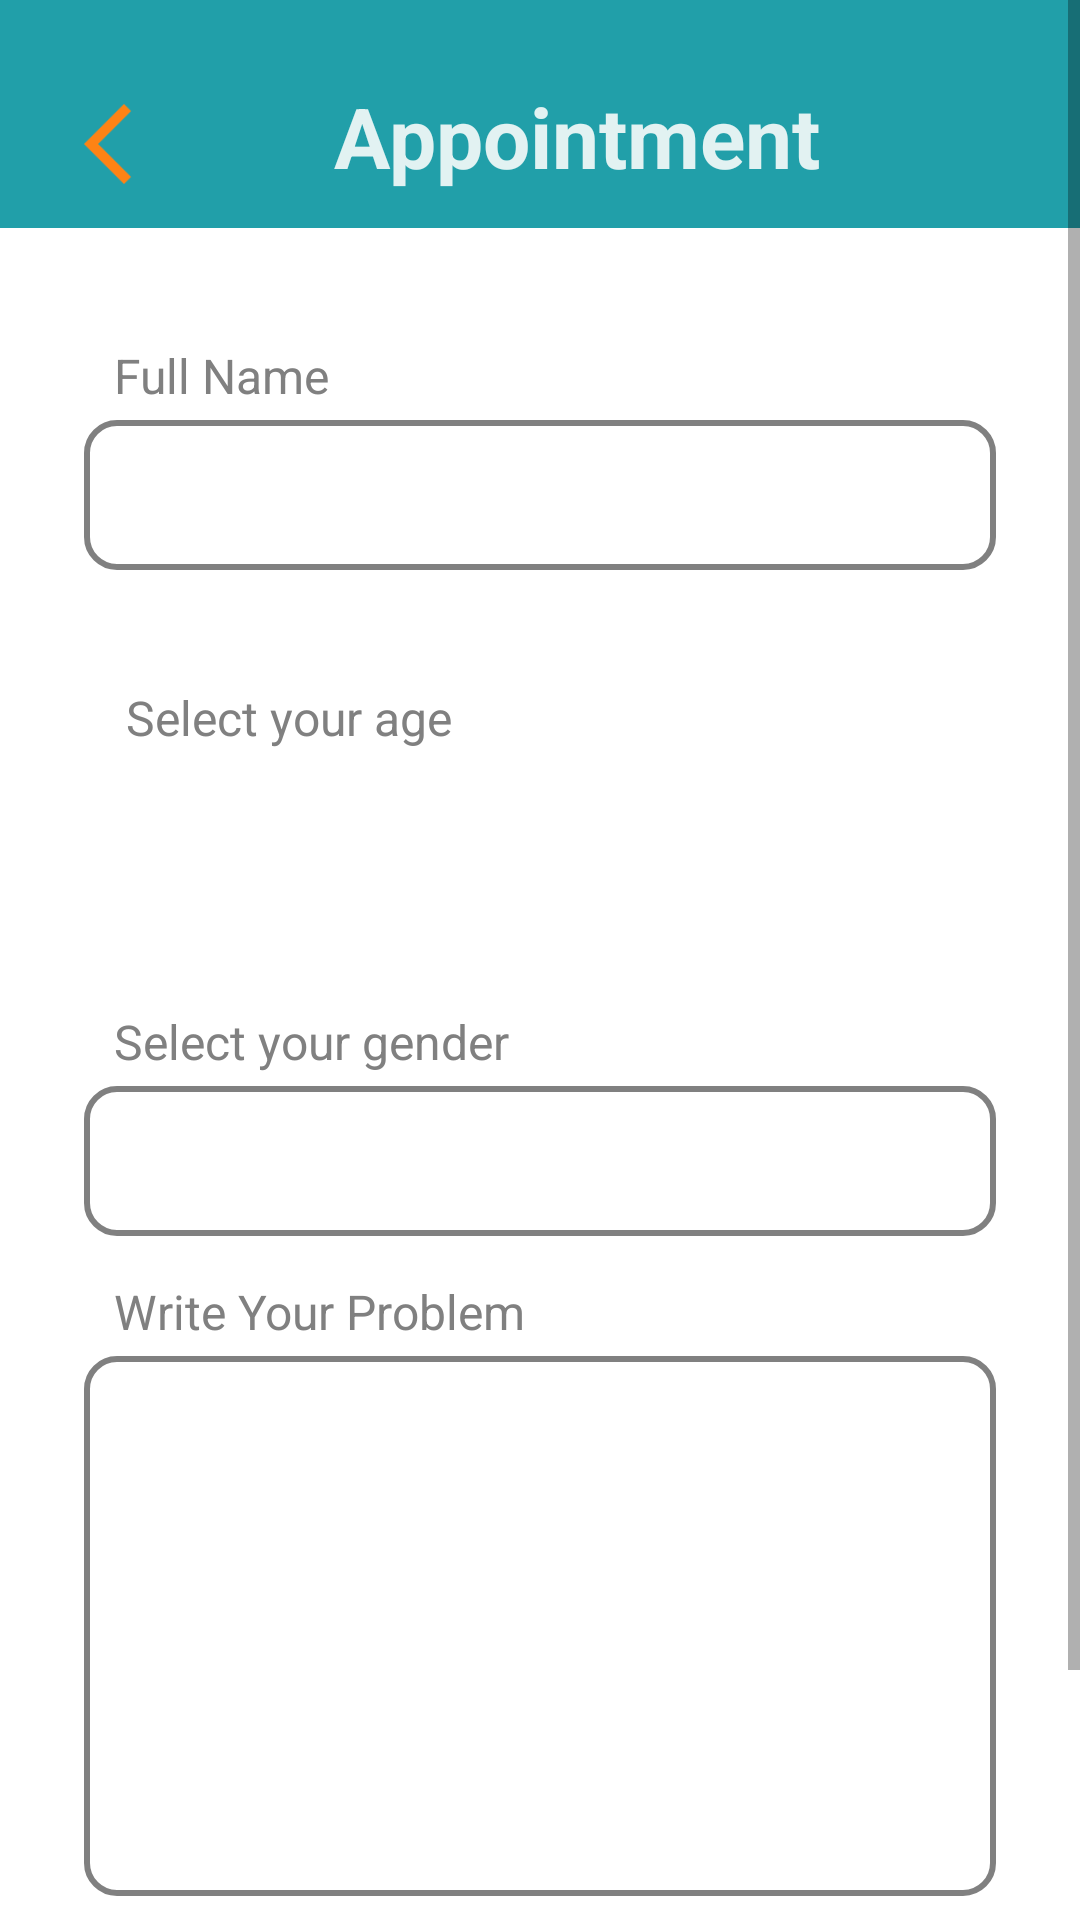

Screen size 1080 x 1920. Icon name, then its box in pixels as (x1, y1, x2, y2):
arrow back: (84, 104, 131, 184)
